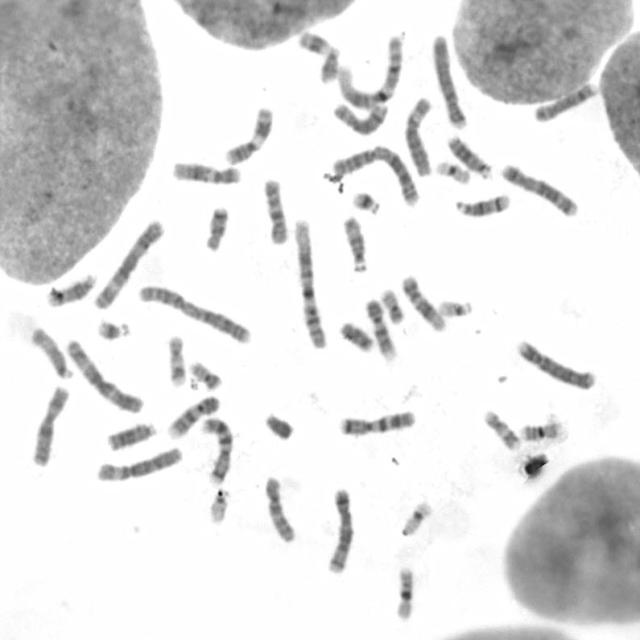A1: (333, 32, 405, 110), (290, 216, 328, 350)
A2: (135, 281, 254, 345), (327, 142, 422, 208)
A3: (90, 216, 166, 311), (64, 335, 145, 415)
B4: (514, 336, 596, 392), (429, 31, 469, 131)
B5: (498, 160, 580, 219), (323, 483, 356, 575)
C10: (261, 472, 298, 545), (260, 174, 290, 246)
C11: (221, 102, 275, 167), (295, 27, 340, 85)
C12: (399, 271, 448, 334), (169, 158, 243, 186)
C6: (94, 443, 184, 484), (400, 93, 436, 178)
C7: (199, 413, 234, 487), (336, 406, 416, 437)
C8: (530, 78, 599, 124), (330, 99, 390, 137)
C9: (164, 392, 222, 440), (363, 296, 399, 363)
D13: (444, 131, 494, 181), (104, 419, 158, 453)
D14: (43, 270, 98, 308), (453, 190, 511, 219)
D15: (28, 324, 74, 381), (340, 213, 370, 275)
E16: (392, 563, 416, 622), (518, 417, 565, 443)
E17: (481, 404, 522, 453), (164, 332, 187, 388)
E18: (200, 202, 230, 254), (336, 317, 375, 354)
F19: (397, 496, 435, 539), (432, 158, 472, 186)
F20: (186, 358, 223, 391), (378, 285, 406, 326)
G21: (95, 316, 132, 343), (349, 187, 382, 217)
G22: (435, 296, 475, 318), (207, 486, 230, 524)
X: (28, 382, 71, 468)
Y: (262, 410, 296, 442)
